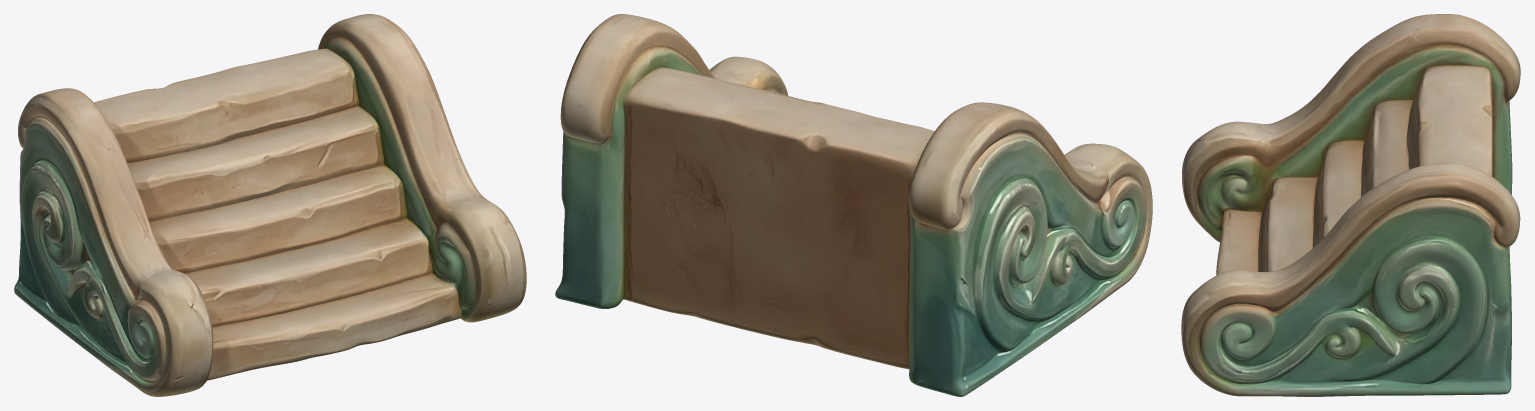
The model's file is act1_wave_stairs.glb.
3 renders of one model, left to right at view 1: azimuth 30°, elevation 25°; view 2: azimuth 150°, elevation 25°; view 3: azimuth 270°, elevation 25°, orthographic. The views are drawn at different scales.
Parts seen in each view (by area): view 1: model; view 2: model; view 3: model.
Part boxes in pixels (box(x1,y1,x2,y2)): model: box(14, 14, 526, 396); model: box(555, 14, 1152, 396); model: box(1181, 14, 1520, 396).
Bounding box in the file's own units: 1.81 × 1 × 1.42.
Materials: 1 (1 with a texture image).
